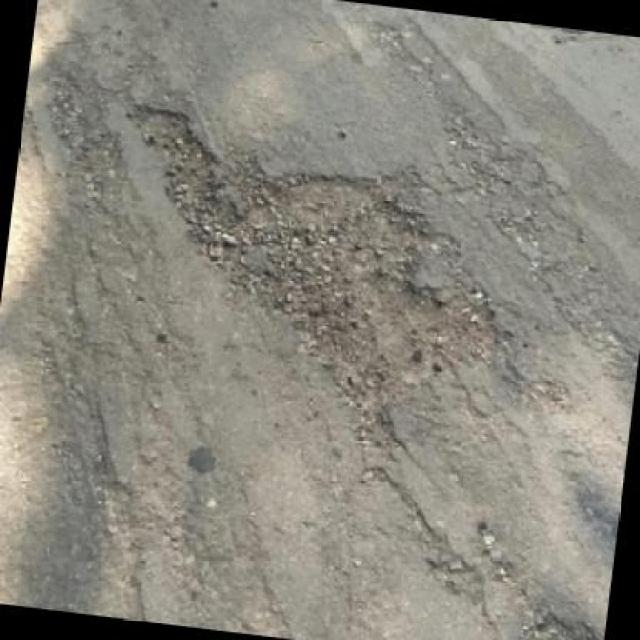pothole1: (176, 133, 533, 444), (110, 100, 228, 257)
